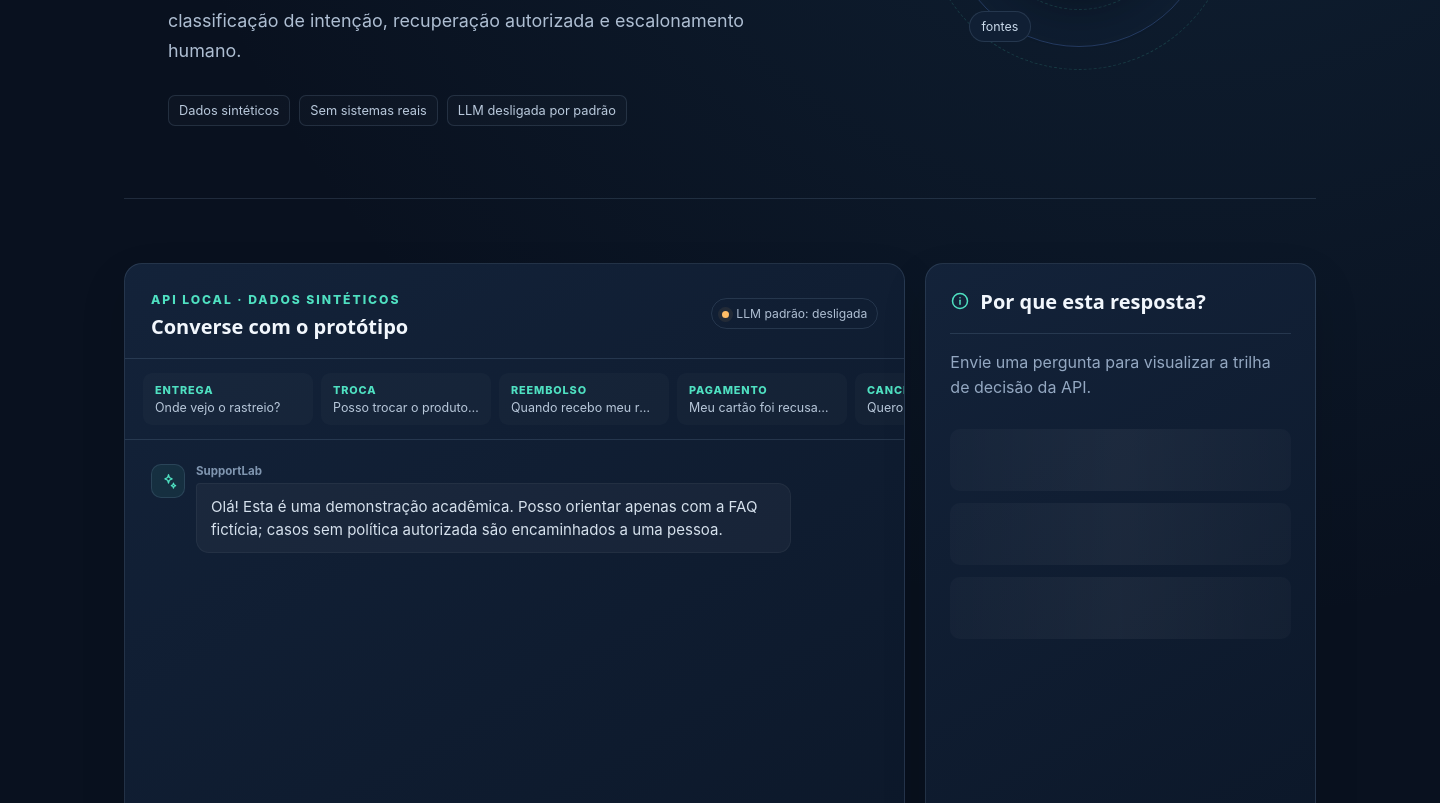
Scenario: App › sends an example and displays explainability from the API contract
(page scrolled)
Click the button "Entrega Onde vejo o rastreio?": click(228, 398) [143,372,313,424]
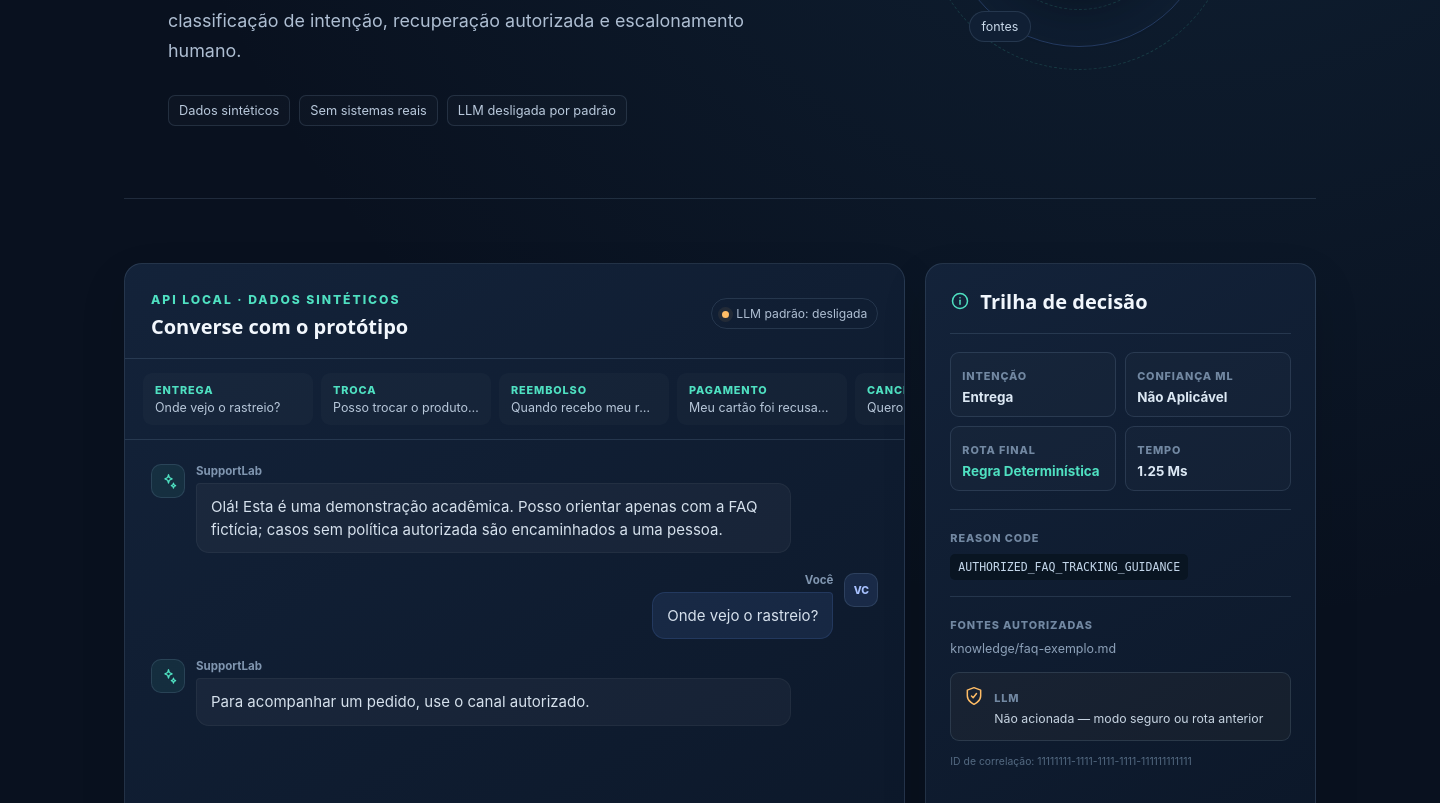
Now the text "Para acompanhar um pedido, use o canal autorizado." is shown, box [196,678,791,726]
Now the text "Regra determinística" is shown, box [962,462,1104,478]
Now the text "AUTHORIZED_FAQ_TRACKING_GUIDANCE" is shown, box [950,554,1188,580]
